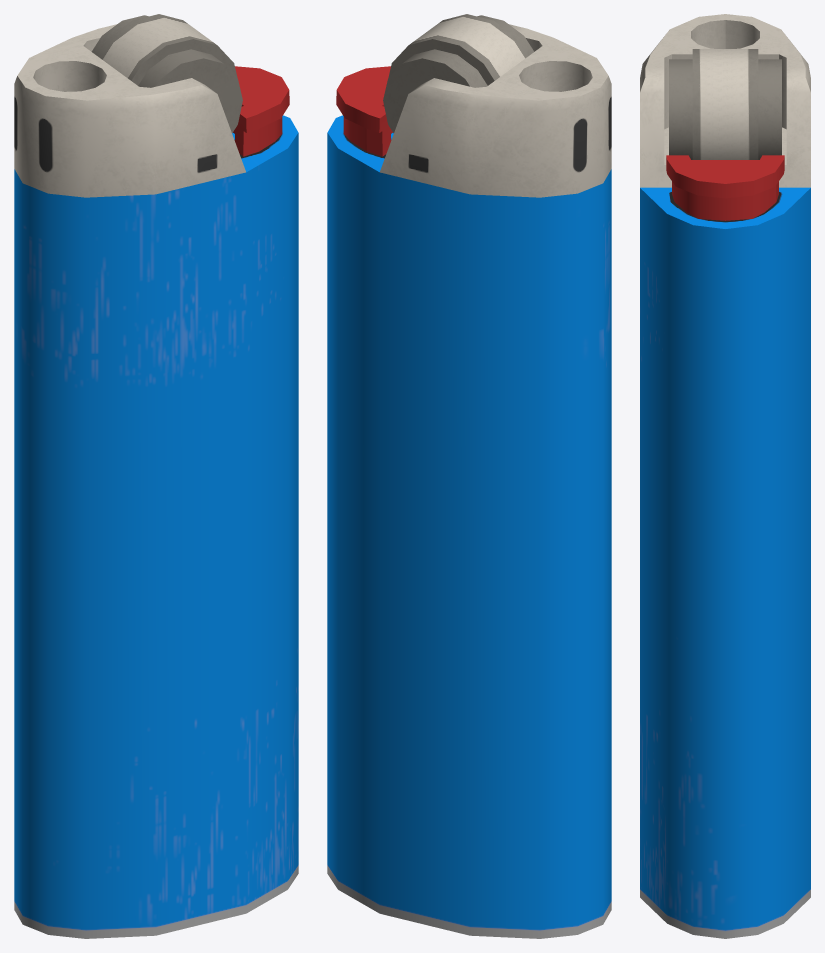
Rendered from lighter.glb.
3 views of the same model, side by side, from view 1: azimuth 30°, elevation 25°; view 2: azimuth 150°, elevation 25°; view 3: azimuth 270°, elevation 25° (orthographic). The views are drawn at different scales.
Parts seen in each view (by area): view 1: Lighter; view 2: Lighter; view 3: Lighter.
Part boxes in pixels (box(x1,y1,x2,y2)): Lighter: box(14, 14, 298, 938); Lighter: box(327, 14, 611, 938); Lighter: box(640, 14, 810, 938).
Bounding box in the file's own units: 1.95 × 6 × 1.13.
1 material, 1 textured.
